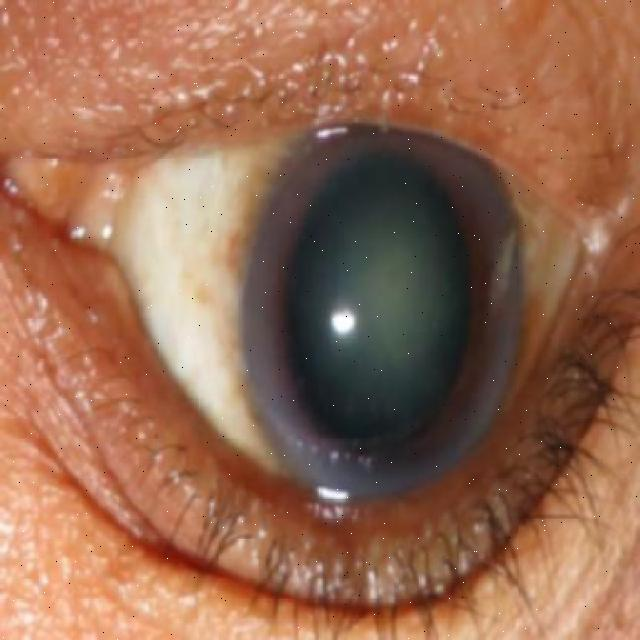Cataract: (240, 116, 528, 498)
